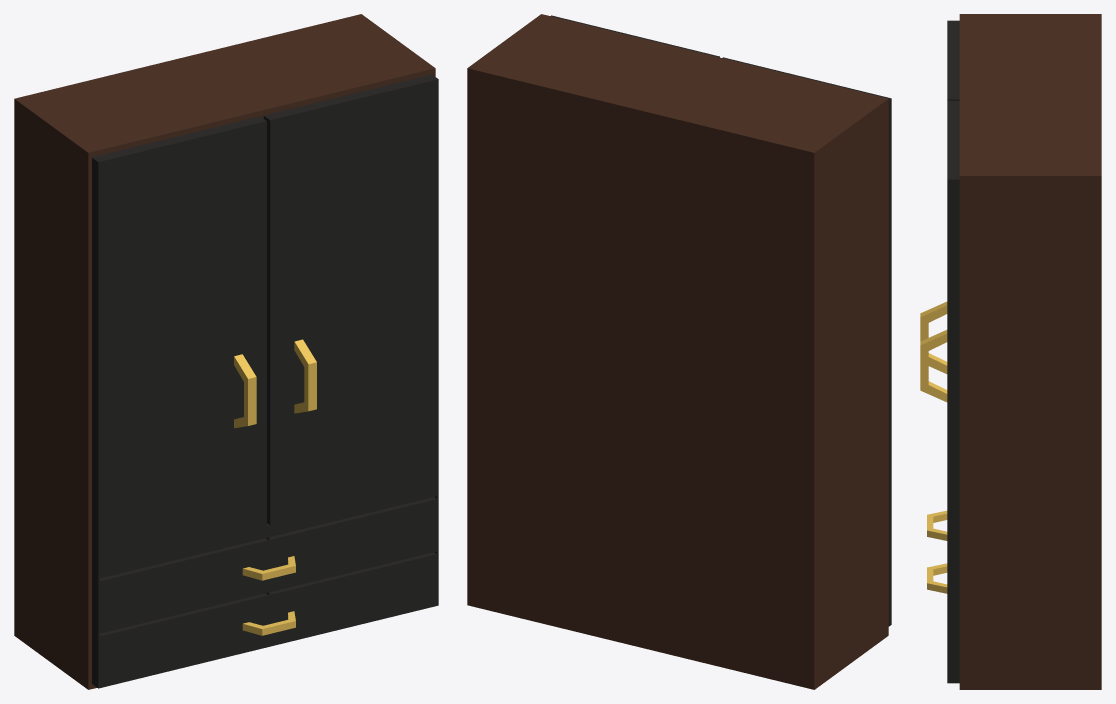
File: WardRobe_2B.fbx
3 views of the same model, side by side, from view 1: azimuth 30°, elevation 25°; view 2: azimuth 150°, elevation 25°; view 3: azimuth 270°, elevation 25° (orthographic). The views are drawn at different scales.
Parts seen in each view (by area): view 1: polySurface1711; view 2: polySurface1711; view 3: polySurface1711.
Part boxes in pixels (x1,y1,x2,y2): polySurface1711: (14, 14, 438, 689); polySurface1711: (467, 14, 891, 689); polySurface1711: (920, 14, 1101, 689).
Size of the model in its own units: 2.3 by 3.4 by 1.09.
1 material, 1 textured.
